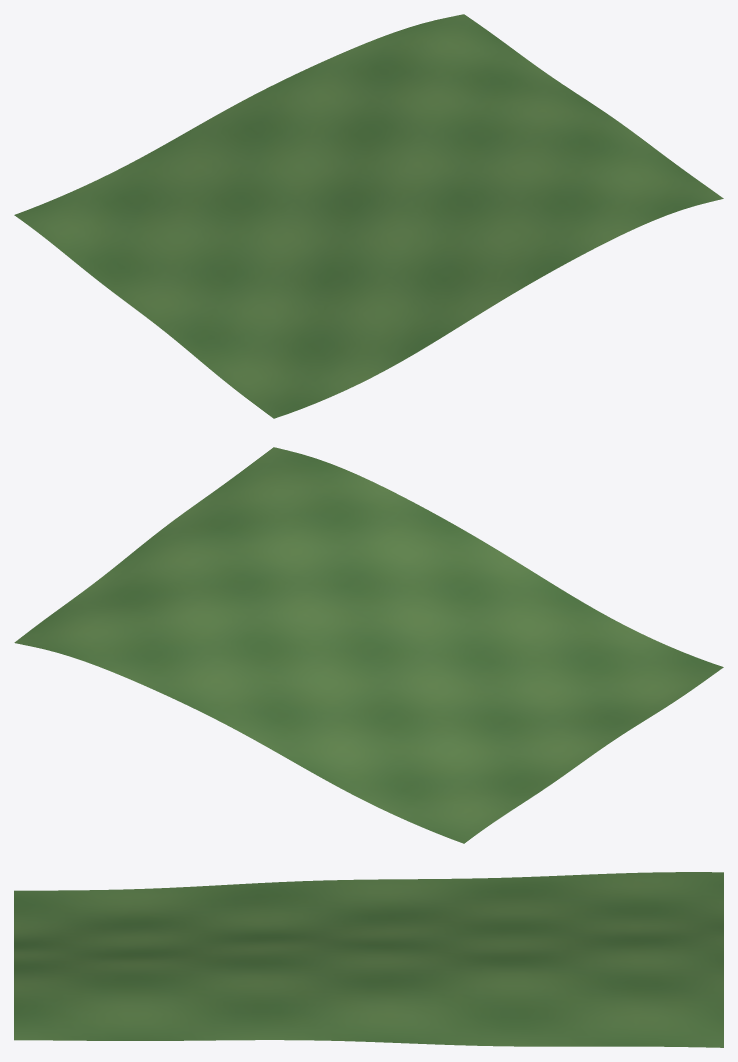
The model's file is chunk_12_2.glb.
The picture shows the model from 3 angles, top to bottom: view 1: azimuth 30°, elevation 25°; view 2: azimuth 150°, elevation 25°; view 3: azimuth 270°, elevation 25°; orthographic projection. The views are drawn at different scales.
Bounding box in the file's own units: 512 × 120 × 512.
